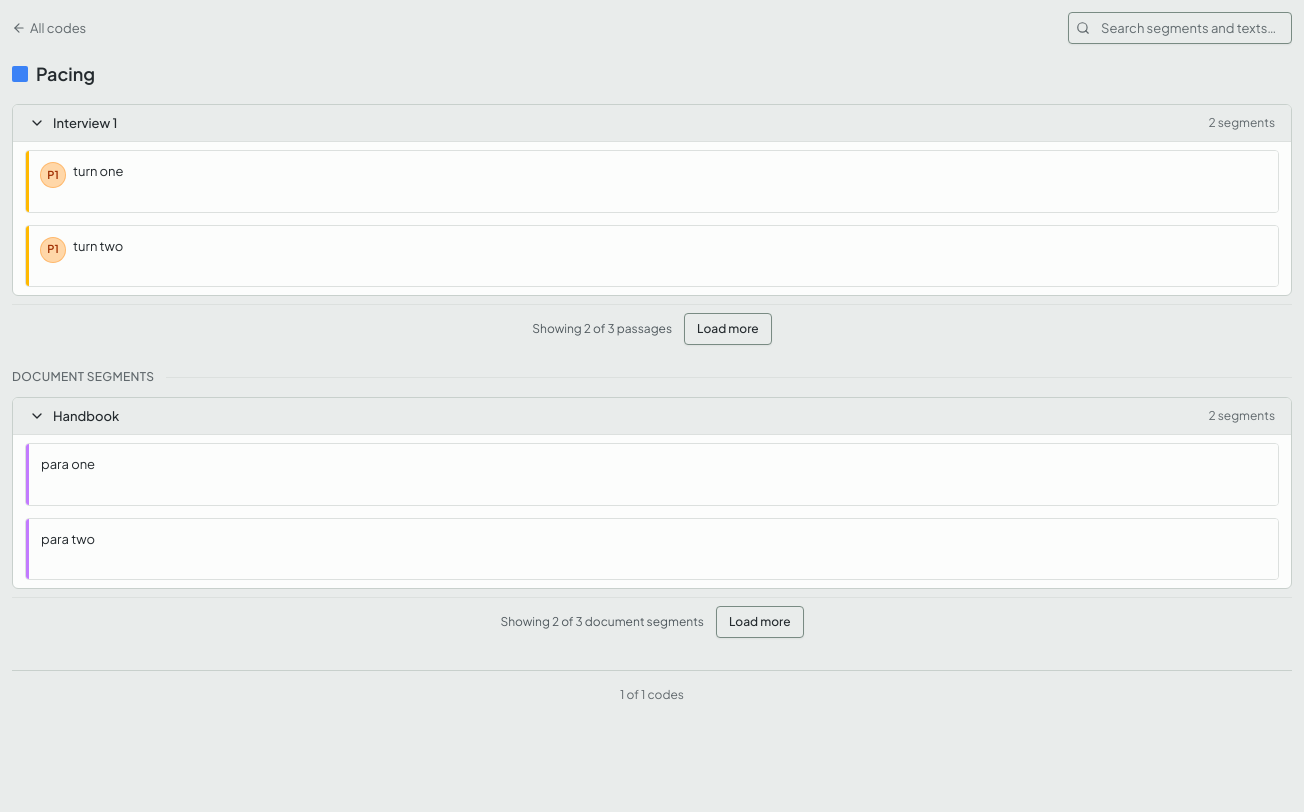
Test: #968 — Load more APPENDS, and the rows stay on screen while it runs › a next page that FAILS keeps the rows and says so beside the button
Expected: the text "turn one" is shown, x1=73 y1=163 x2=124 y2=179
What coordinates should you click on to do the following:
click the button with aria-label "Load more passages — 1 remaining"
I would click on:
 (728, 329)
Its box is x1=684 y1=313 x2=772 y2=345.
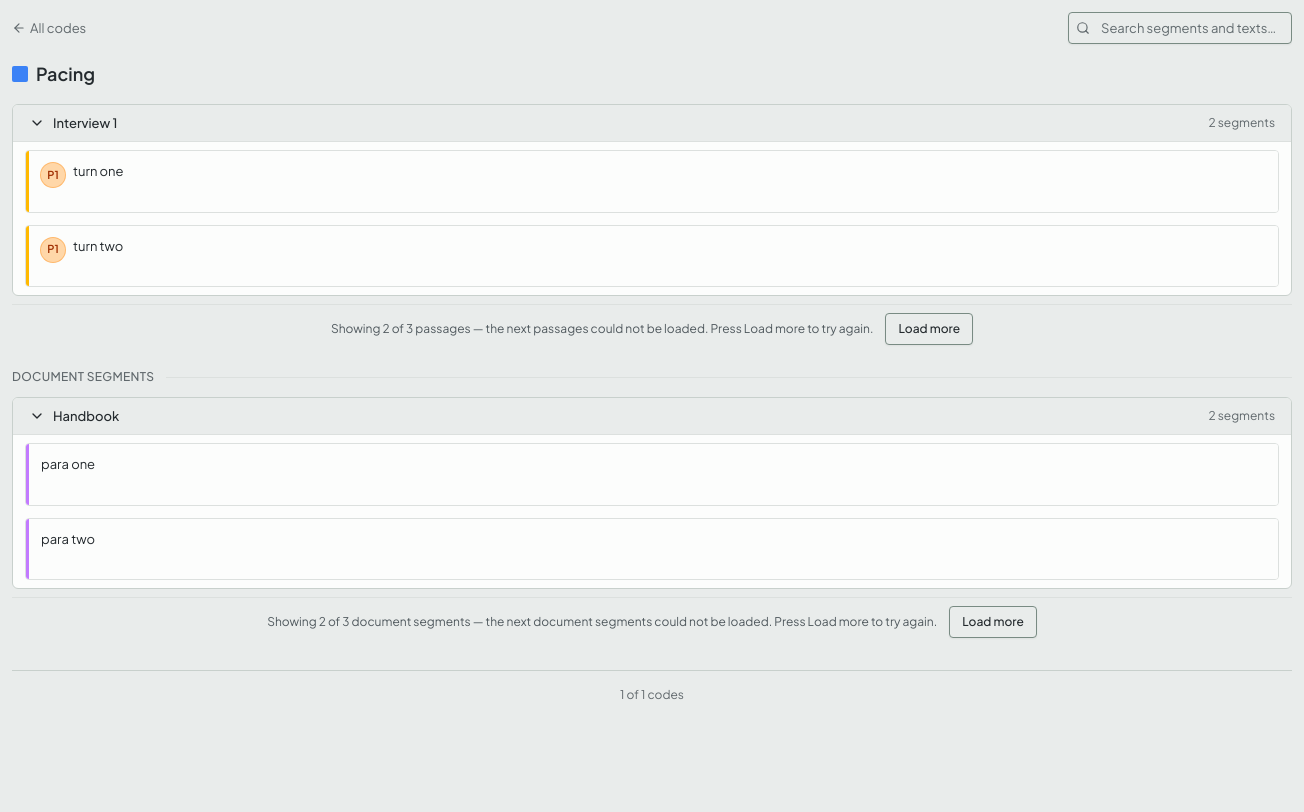
Expected: the text "turn one" is shown, x1=73 y1=163 x2=124 y2=179
Expected: the text "the next passages could not be loaded" is shown, x1=471 y1=321 x2=873 y2=336
